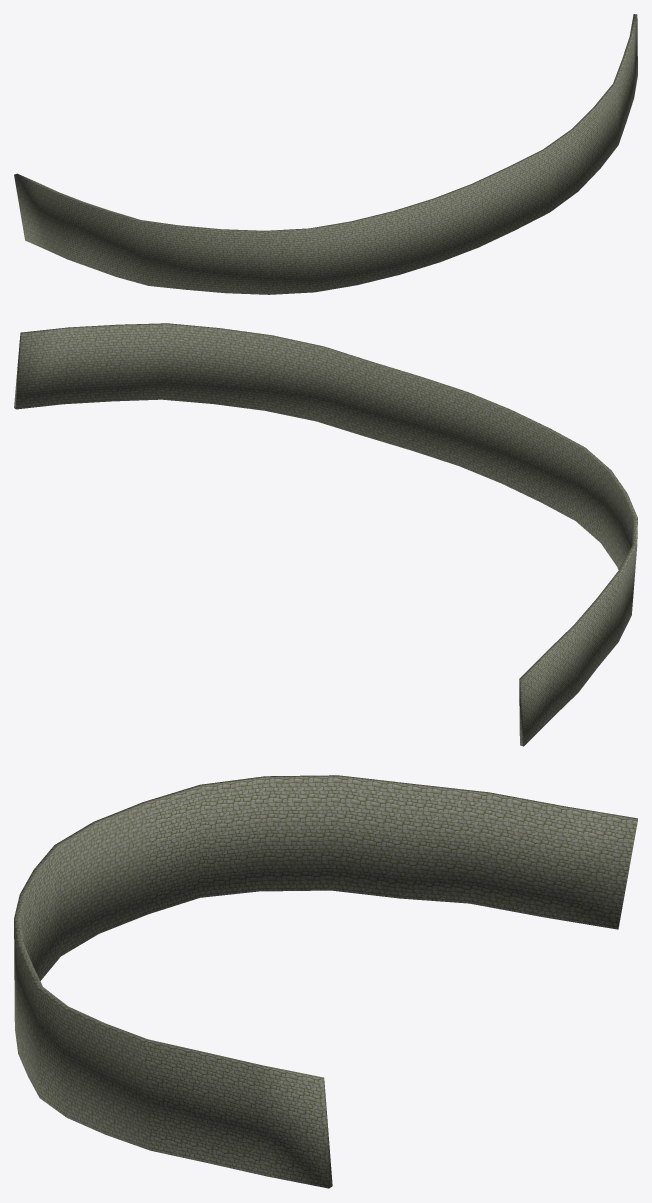
The model's file is OutdoorM_Wall.FBX.
3 renders of one model, top to bottom at view 1: azimuth 30°, elevation 25°; view 2: azimuth 150°, elevation 25°; view 3: azimuth 270°, elevation 25°, orthographic. The views are drawn at different scales.
Visible parts, largest first — view 1: OutdoorM_Wall; view 2: OutdoorM_Wall; view 3: OutdoorM_Wall.
Boxes of the visible parts, <box> form: OutdoorM_Wall: <box>14,14,637,294</box>; OutdoorM_Wall: <box>14,323,637,746</box>; OutdoorM_Wall: <box>14,775,637,1188</box>.
Bounding box in the file's own units: 1105 × 324 × 670.
